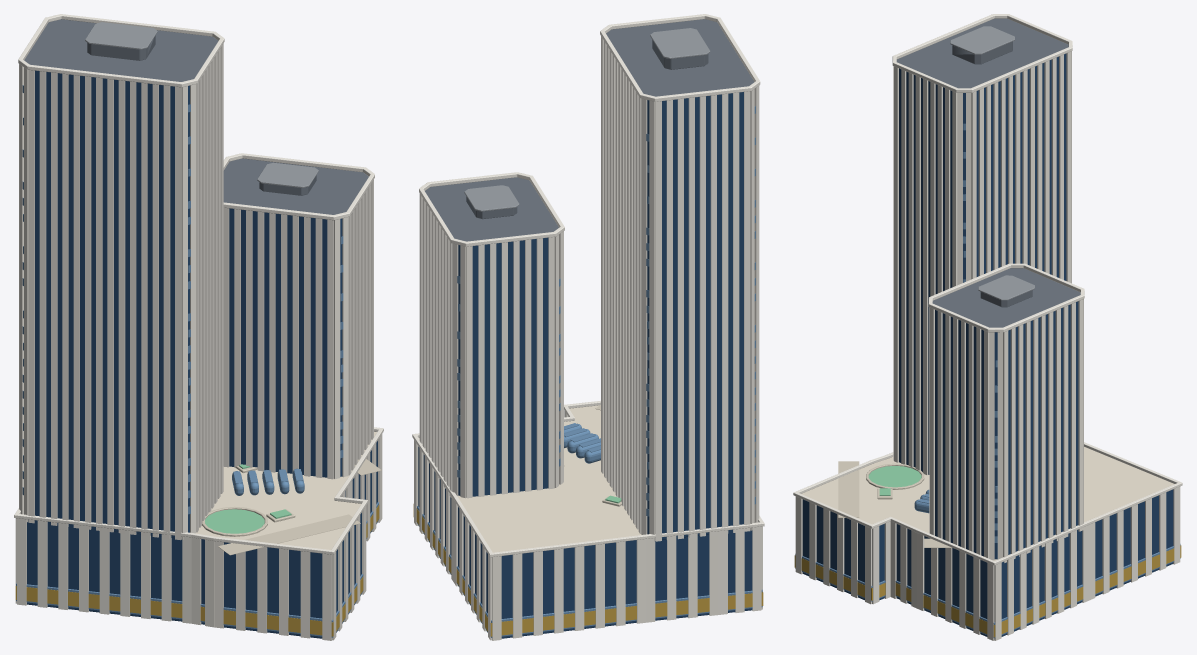
The model's file is one-market-plaza-towers.glb.
3 views of the same model, side by side, from view 1: azimuth 30°, elevation 25°; view 2: azimuth 150°, elevation 25°; view 3: azimuth 270°, elevation 25° (orthographic). The views are drawn at different scales.
Parts seen in each view (by area): view 1: grp_Toy_white, grp_Toy_glass_Toy_slate, podium, pod_retail_glow, grp_Toy_steel, grp_Toy_stone, grp_Toy_glassl, grp_Toy_glassl_Glow, grp_Toy_mint, grp_Toy_slate; view 2: grp_Toy_white, grp_Toy_glass_Toy_slate, podium, pod_retail_glow, grp_Toy_steel, grp_Toy_glassl_Glow, grp_Toy_glassl, grp_Toy_slate; view 3: grp_Toy_white, grp_Toy_glass_Toy_slate, podium, pod_retail_glow, grp_Toy_steel, grp_Toy_stone, grp_Toy_glassl, grp_Toy_slate, grp_Toy_mint.
Boxes of the visible parts, left/top/right/bottom form: grp_Toy_white: left=14, top=14, right=383, bottom=640; grp_Toy_glass_Toy_slate: left=24, top=19, right=368, bottom=538; podium: left=27, top=432, right=377, bottom=638; pod_retail_glow: left=15, top=504, right=379, bottom=636; grp_Toy_steel: left=85, top=22, right=318, bottom=187; grp_Toy_stone: left=202, top=455, right=381, bottom=555; grp_Toy_glassl: left=16, top=468, right=378, bottom=637; grp_Toy_glassl_Glow: left=22, top=85, right=343, bottom=514; grp_Toy_mint: left=205, top=464, right=291, bottom=533; grp_Toy_slate: left=87, top=36, right=316, bottom=195; grp_Toy_white: left=412, top=14, right=764, bottom=640; grp_Toy_glass_Toy_slate: left=425, top=19, right=754, bottom=539; podium: left=418, top=405, right=752, bottom=638; pod_retail_glow: left=413, top=504, right=763, bottom=636; grp_Toy_steel: left=464, top=28, right=710, bottom=211; grp_Toy_glassl_Glow: left=457, top=106, right=755, bottom=516; grp_Toy_glassl: left=417, top=423, right=762, bottom=637; grp_Toy_slate: left=466, top=40, right=708, bottom=219; grp_Toy_white: left=793, top=14, right=1182, bottom=640; grp_Toy_glass_Toy_slate: left=896, top=18, right=1080, bottom=559; podium: left=801, top=447, right=1174, bottom=636; pod_retail_glow: left=794, top=545, right=1181, bottom=637; grp_Toy_steel: left=950, top=26, right=1034, bottom=300; grp_Toy_stone: left=838, top=461, right=951, bottom=547; grp_Toy_glassl: left=795, top=489, right=1180, bottom=638; grp_Toy_slate: left=952, top=41, right=1032, bottom=307; grp_Toy_mint: left=868, top=466, right=921, bottom=495.
Bounding box in the file's own units: 123 × 178 × 129.
